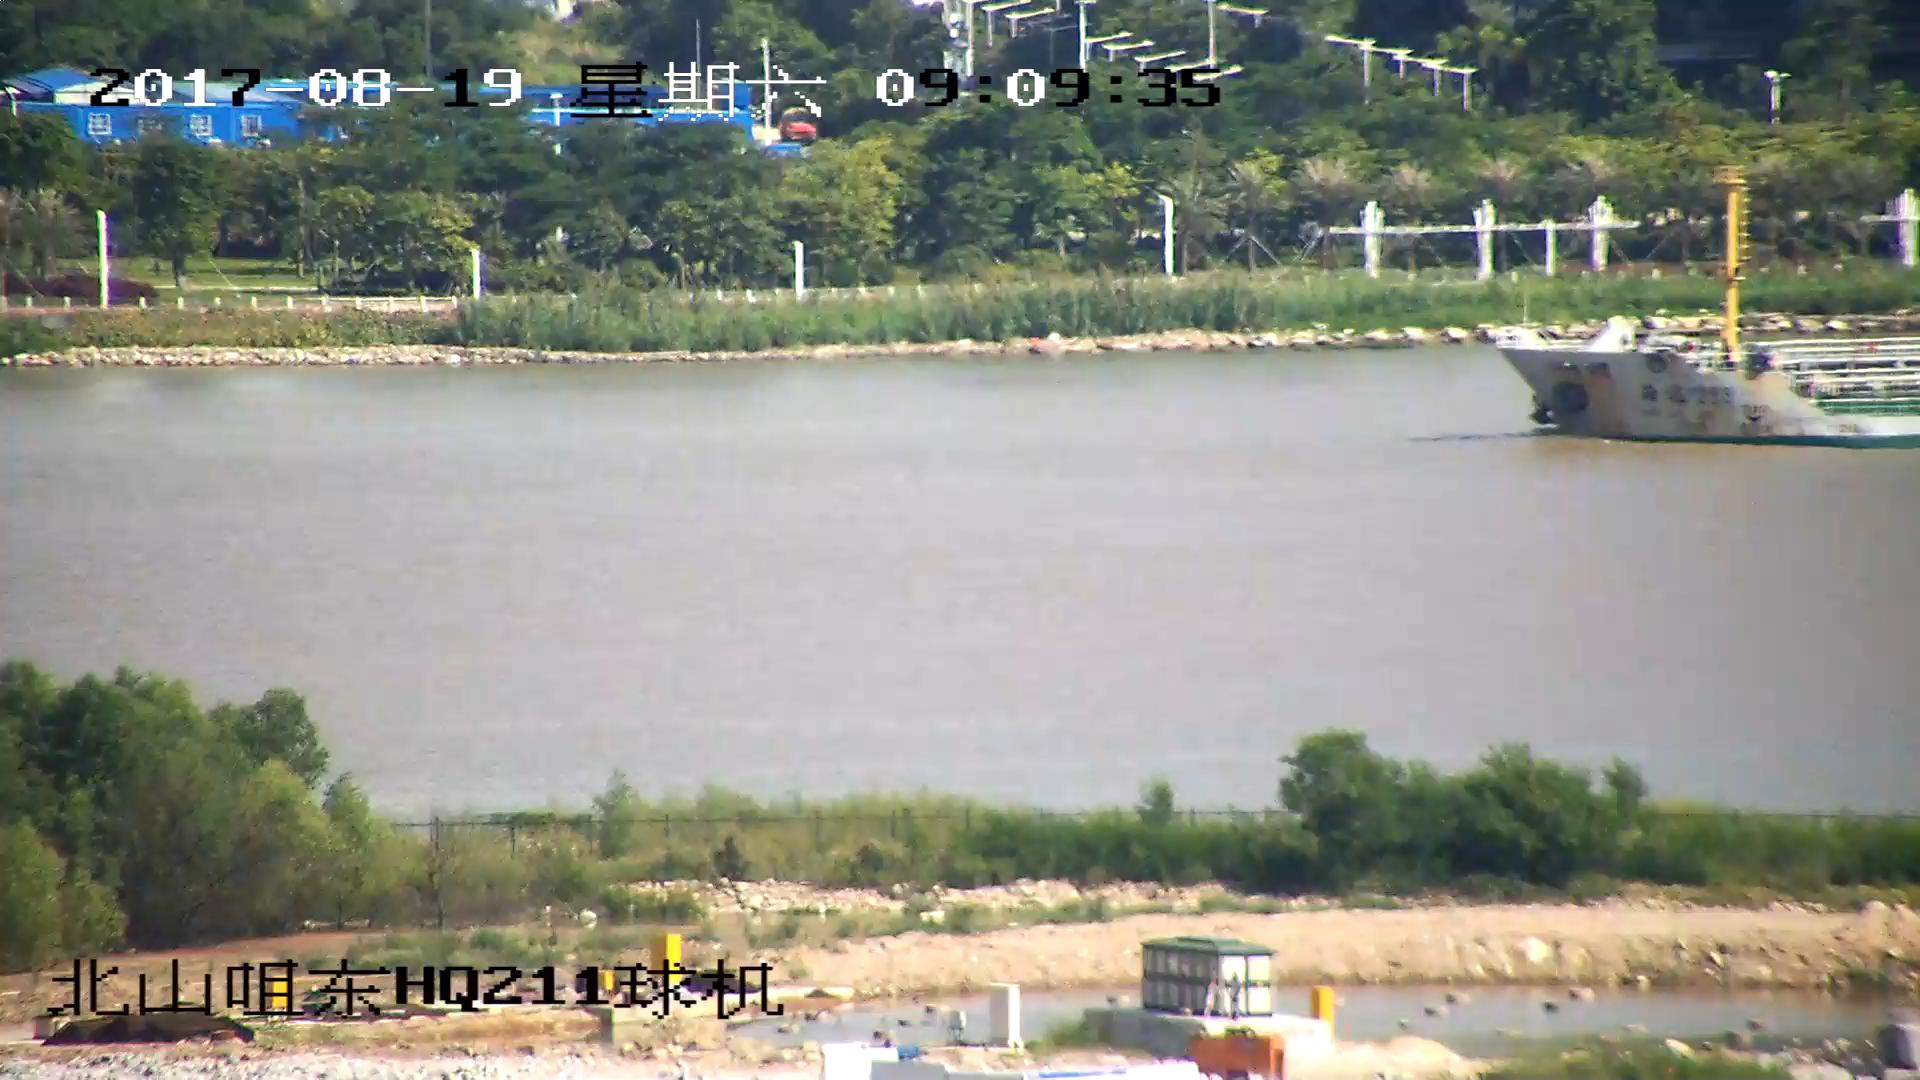general cargo ship: (1483, 320, 1920, 448)
